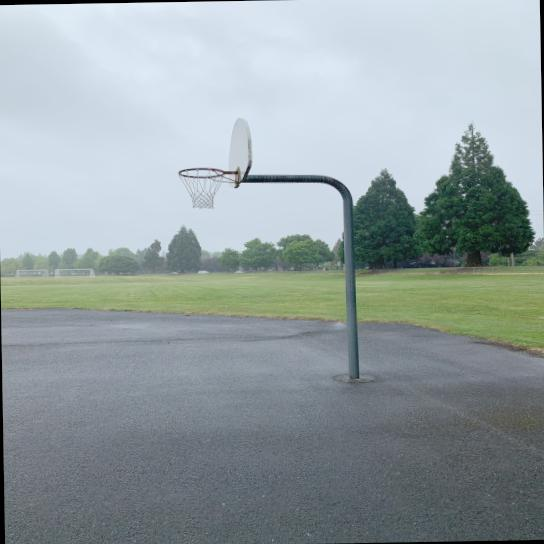basketball-hoop: (176, 166, 227, 210)
